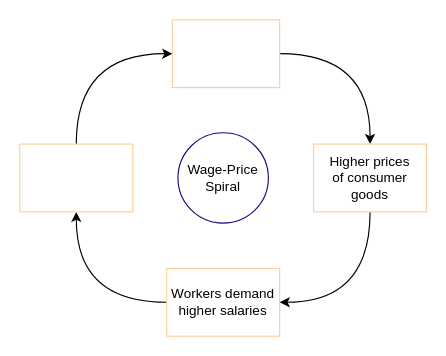
This 446x356 diagram has some shape labels left out. Here are the shapes that lost their labels. From the top down, the centre of each, then its label:
At [225,53]: "Inflation".
At [76,177]: "High labour costs lead to higher prices".
